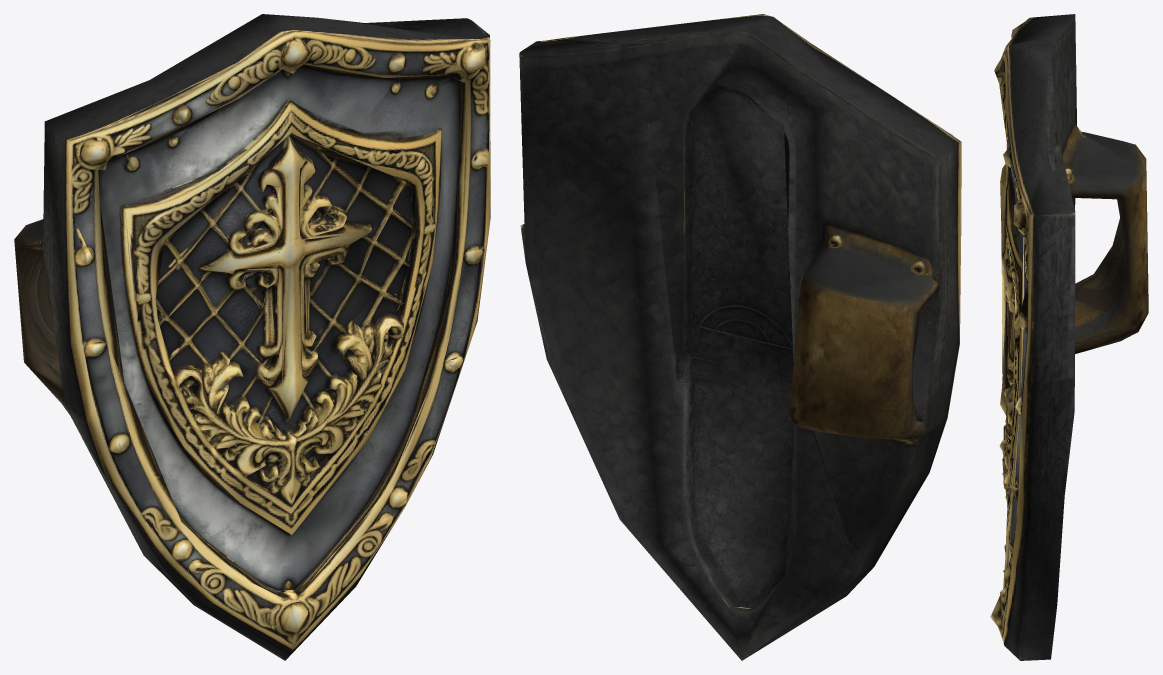
File: Rare.glb
The picture shows the model from 3 angles, left to right: view 1: azimuth 30°, elevation 25°; view 2: azimuth 150°, elevation 25°; view 3: azimuth 270°, elevation 25°; orthographic projection. The views are drawn at different scales.
Visible parts, largest first — view 1: Mesh1.0; view 2: Mesh1.0; view 3: Mesh1.0.
Part boxes in pixels (x1,y1,x2,y2): Mesh1.0: (14, 14, 490, 660); Mesh1.0: (519, 14, 961, 660); Mesh1.0: (990, 14, 1148, 660).
Size of the model in its own units: 1.35 by 1.91 by 0.4483.
1 material, 1 textured.
